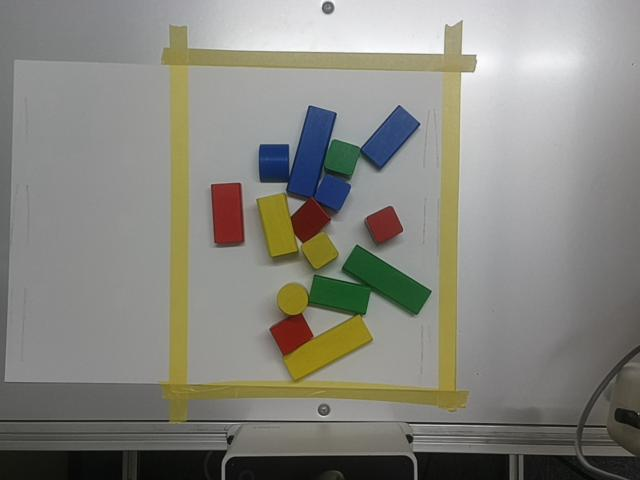blue_cube: (314, 174, 350, 211)
blue_longrect: (287, 106, 336, 197)
blue_rect: (361, 105, 419, 168)
cylinder: (277, 283, 308, 315)
green_cube: (324, 139, 360, 180)
green_longrect: (342, 245, 431, 314)
green_rect: (309, 275, 370, 315)
half_cylinder: (259, 144, 287, 182)
red_cube: (365, 206, 402, 244)
red_rect: (211, 183, 244, 246)
triangle: (270, 314, 312, 355), (291, 198, 330, 242)
yellow_cube: (301, 232, 338, 269)
yellow_longrect: (284, 315, 372, 380)
yelow_rect: (257, 193, 298, 258)
